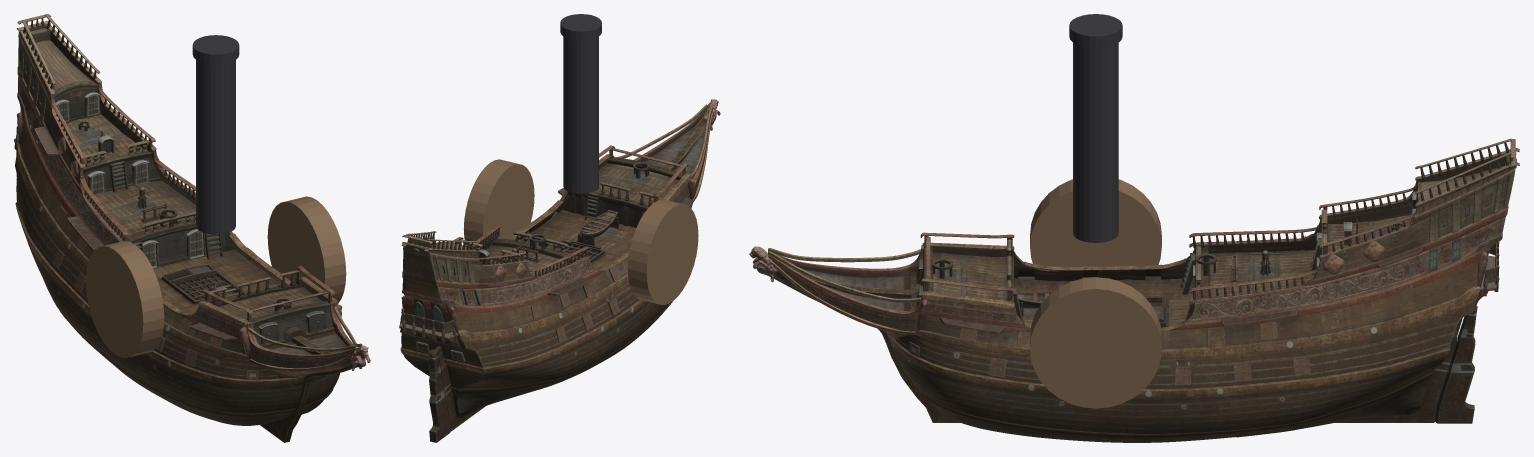
The model's file is ship-steam.glb.
3 views of the same model, side by side, from view 1: azimuth 30°, elevation 25°; view 2: azimuth 150°, elevation 25°; view 3: azimuth 270°, elevation 25° (orthographic). The views are drawn at different scales.
Visible parts, largest first — view 1: dutch_ship_large_02_hull, steam_parts; view 2: dutch_ship_large_02_hull, steam_parts; view 3: dutch_ship_large_02_hull, steam_parts.
Boxes of the visible parts, left/top/right/bottom form: dutch_ship_large_02_hull: left=14, top=14, right=370, bottom=442; steam_parts: left=85, top=35, right=346, bottom=358; dutch_ship_large_02_hull: left=399, top=99, right=720, bottom=442; steam_parts: left=464, top=14, right=698, bottom=305; dutch_ship_large_02_hull: left=749, top=138, right=1519, bottom=442; steam_parts: left=1030, top=14, right=1161, bottom=408.
Bounding box in the file's own units: 10.6 × 17.23 × 30.38.
Materials: 3 (1 with a texture image).
